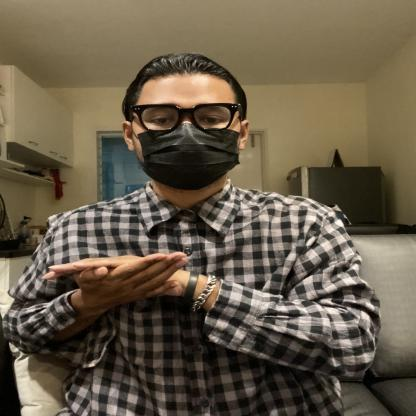Love: (23, 225, 253, 325)
